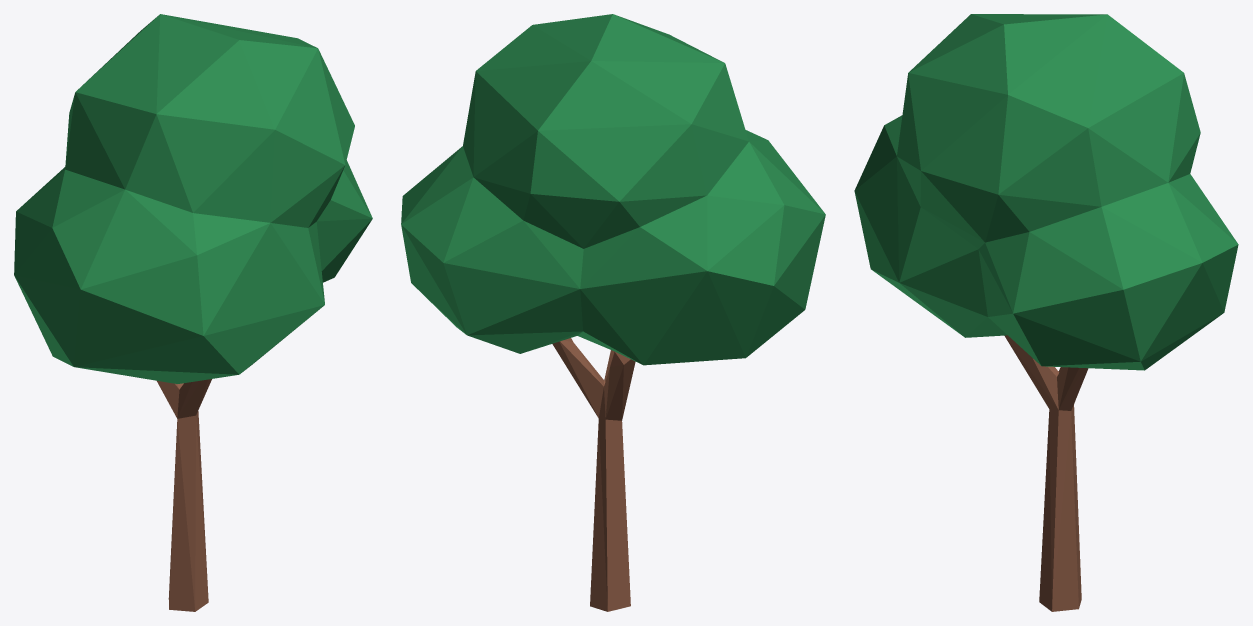
Rendered from LowPoly_Tree.fbx.
3 renders of one model, left to right at view 1: azimuth 30°, elevation 25°; view 2: azimuth 150°, elevation 25°; view 3: azimuth 270°, elevation 25°, orthographic. The views are drawn at different scales.
Parts seen in each view (by area): view 1: Tree; view 2: Tree; view 3: Tree.
Boxes of the visible parts, bbox=[...] form: Tree: bbox=[14, 14, 372, 611]; Tree: bbox=[401, 14, 825, 611]; Tree: bbox=[854, 14, 1238, 611].
Bounding box in the file's own units: 1269 × 1986 × 1170.
